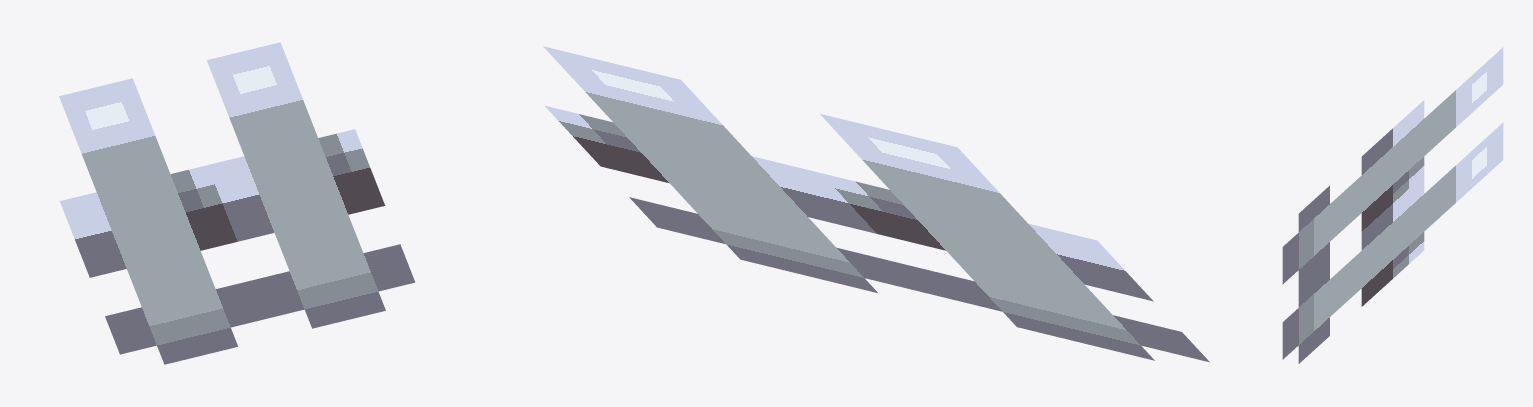
3 renders of one model, left to right at view 1: azimuth 30°, elevation 25°; view 2: azimuth 150°, elevation 25°; view 3: azimuth 270°, elevation 25°, orthographic. The views are drawn at different scales.
Bounding box in the file's own units: 1 × 0.707 × 0.707.
Materials: 1 (1 with a texture image).
